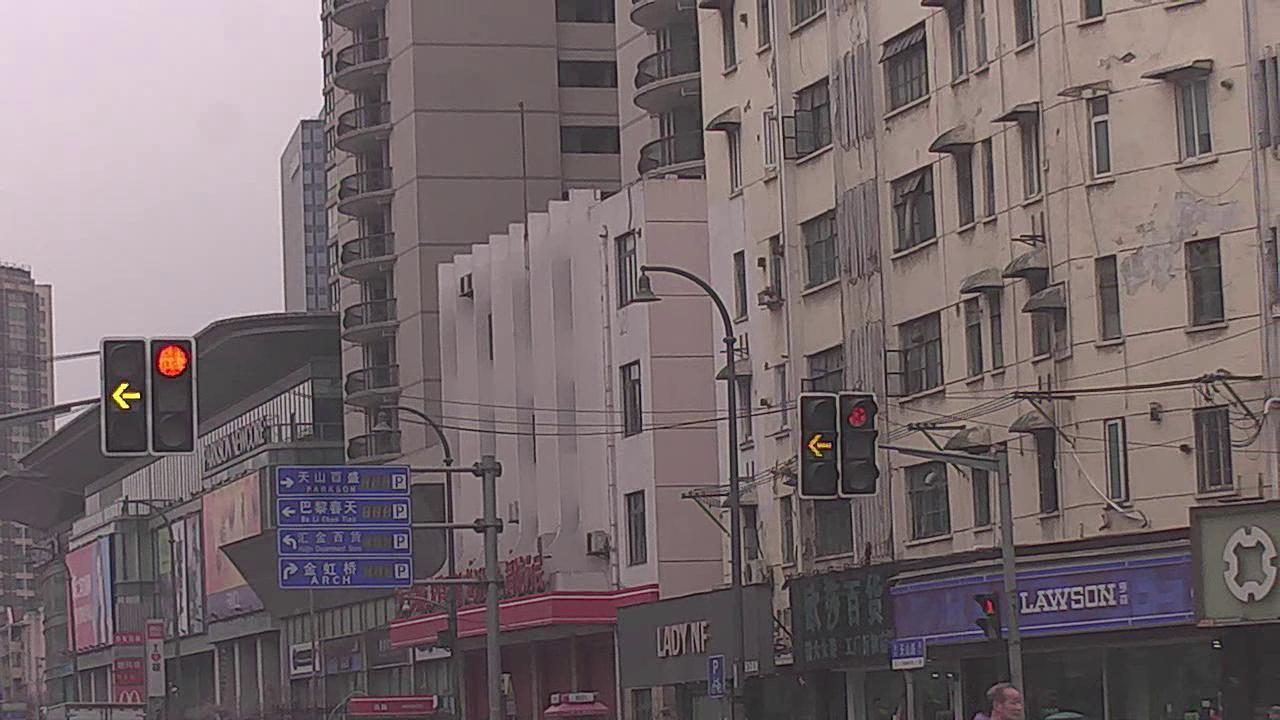traffic_light: (146, 337, 196, 448), (102, 339, 150, 452), (833, 389, 878, 489), (801, 395, 837, 498)
